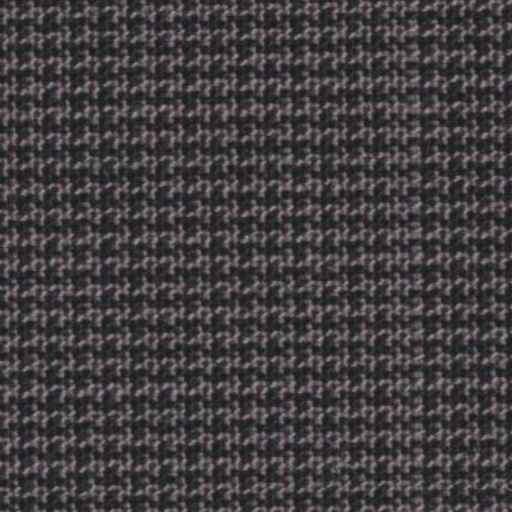TuoSha: (356, 7, 456, 495)
